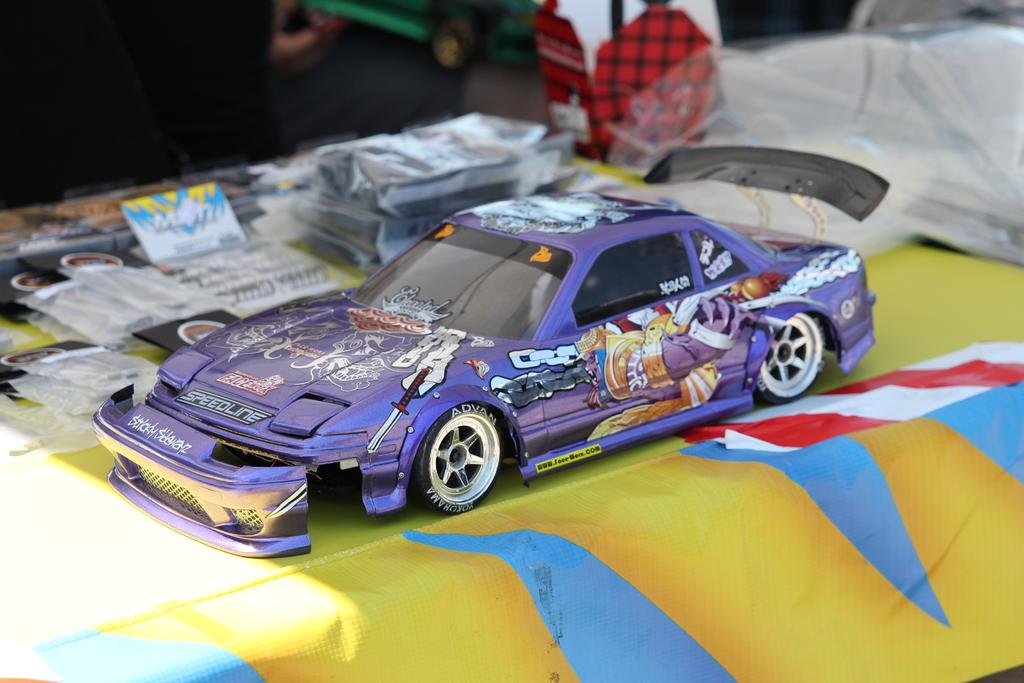Car: (107, 203, 868, 534)
